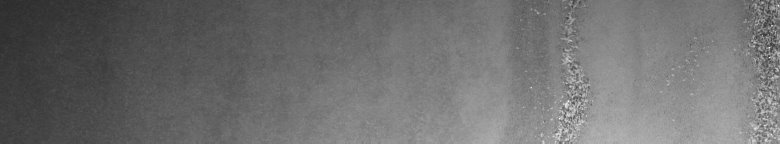hc: (672, 4, 776, 136)
